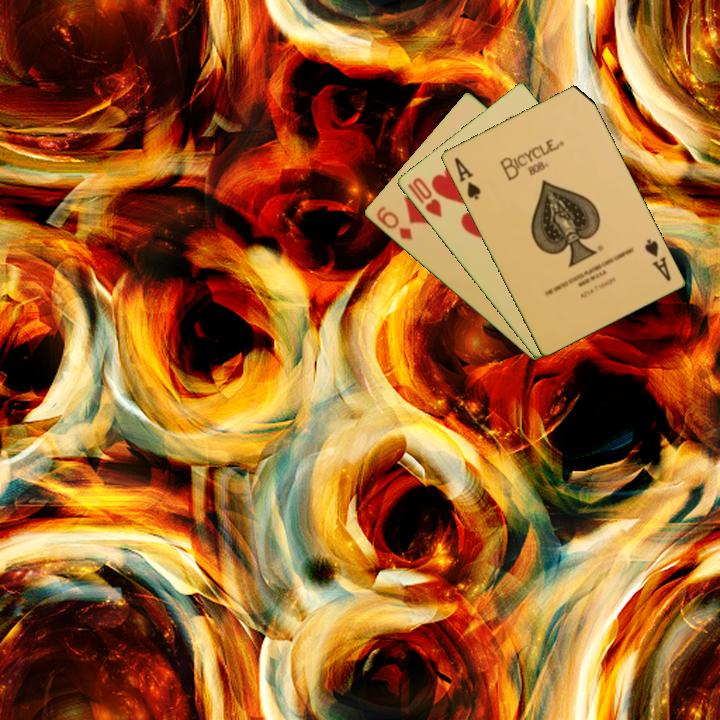10h: (404, 174, 445, 220)
6d: (372, 203, 415, 243)
As: (450, 153, 483, 203), (641, 235, 674, 284)
